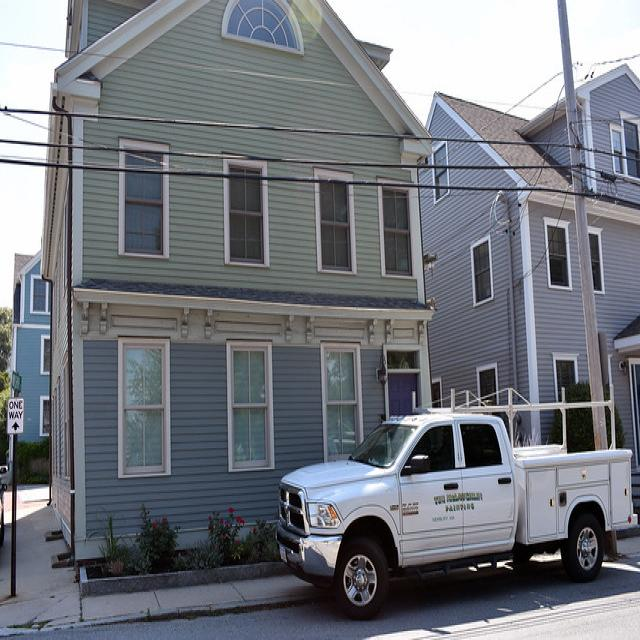building: (41, 12, 432, 579), (423, 53, 640, 538)
